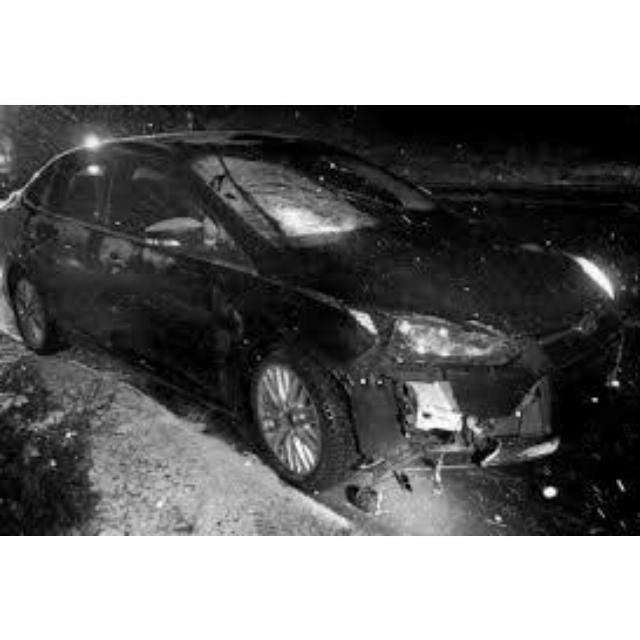Headlight-damage: (357, 311, 523, 386)
front-bumper-dent: (347, 381, 539, 465)
